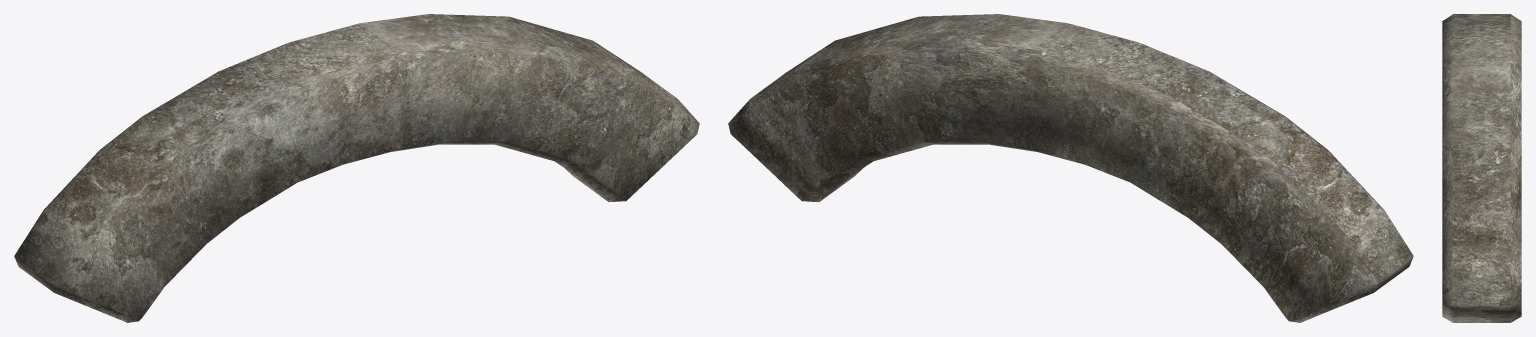
The model's file is Pillars_Arc.FBX.
The picture shows the model from 3 angles, left to right: view 1: azimuth 30°, elevation 25°; view 2: azimuth 150°, elevation 25°; view 3: azimuth 270°, elevation 25°; orthographic projection. The views are drawn at different scales.
Parts seen in each view (by area): view 1: Pillars_Arc; view 2: Pillars_Arc; view 3: Pillars_Arc.
Boxes of the visible parts, x1,y1,x2,y2 form: Pillars_Arc: (14, 14, 699, 322); Pillars_Arc: (728, 14, 1413, 322); Pillars_Arc: (1442, 14, 1521, 322).
Bounding box in the file's own units: 3.94 × 1.21 × 0.5192.
